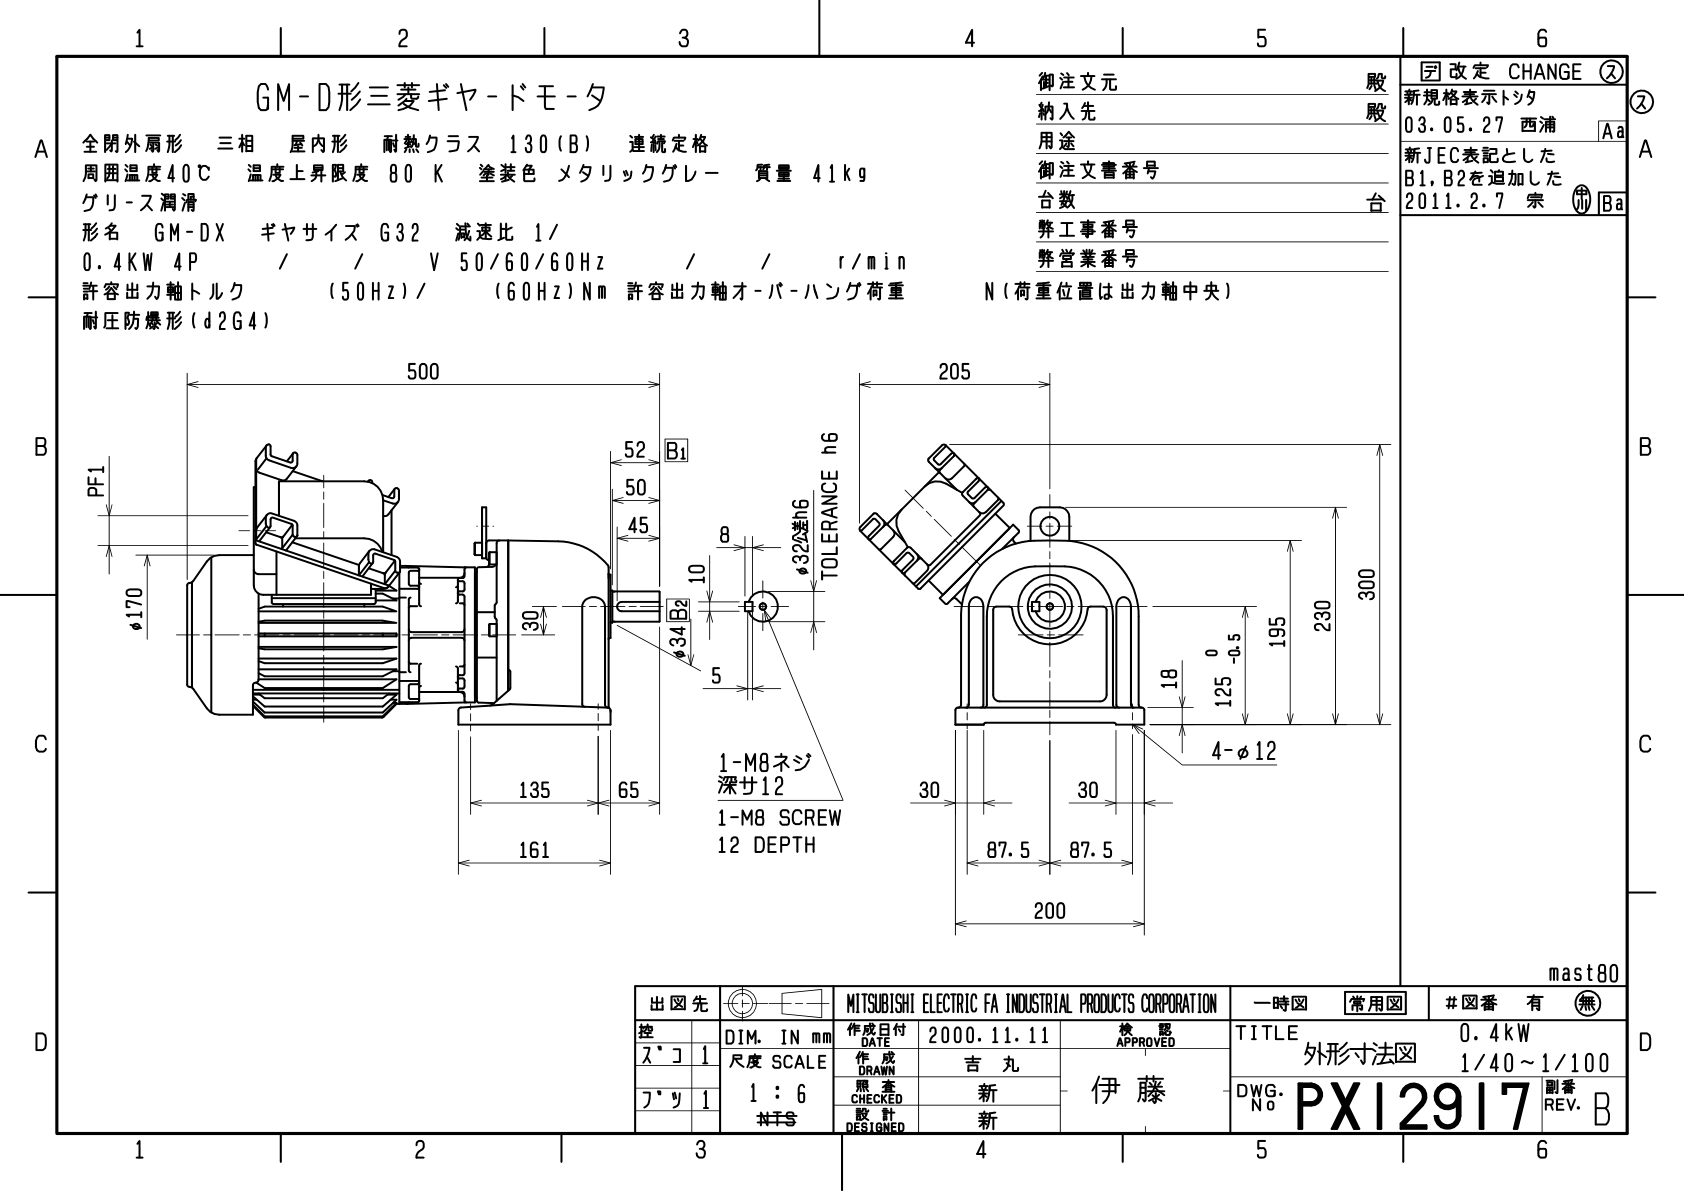GM_D_耐圧屋内_三相_脚: (1, 10, 1674, 1186)
